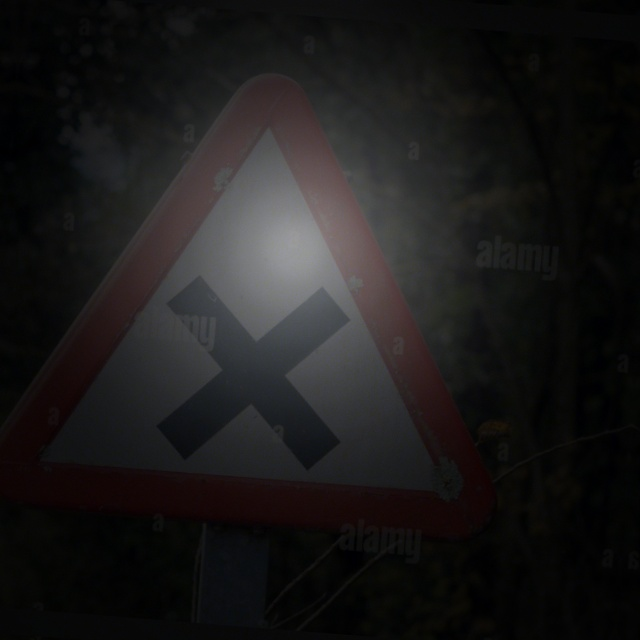Cross_Road: (1, 63, 521, 538)
